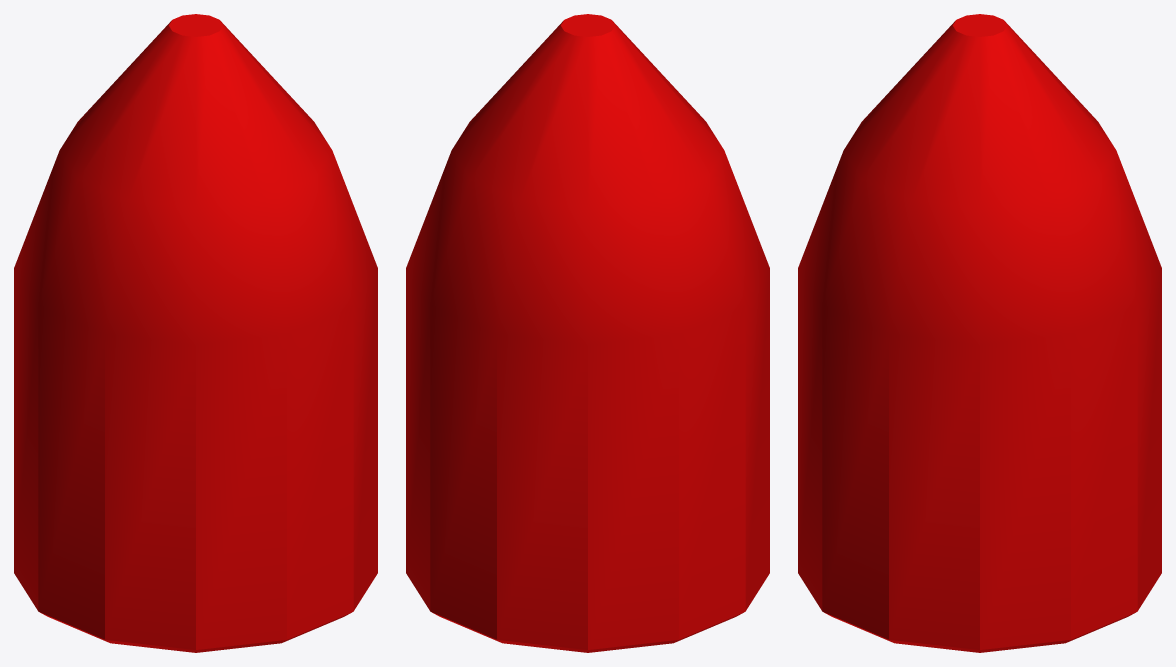
The model's file is ShellHead.fbx.
3 views of the same model, side by side, from view 1: azimuth 30°, elevation 25°; view 2: azimuth 150°, elevation 25°; view 3: azimuth 270°, elevation 25° (orthographic).
Visible parts, largest first — view 1: shell; view 2: shell; view 3: shell.
Boxes of the visible parts, box(x1,y1,x2,y2) form: shell: box(14, 14, 377, 652); shell: box(406, 14, 769, 652); shell: box(798, 14, 1161, 652).
Bounding box in the file's own units: 0.7152 × 1.23 × 0.7152.
